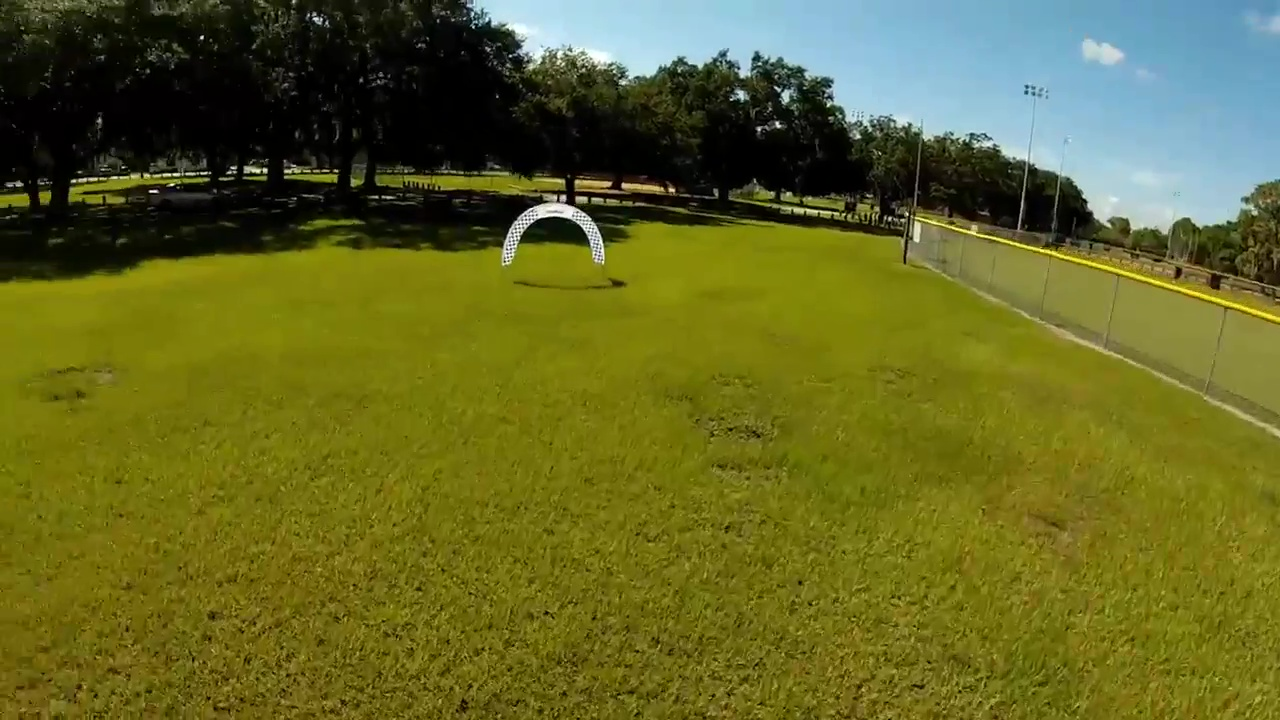gate: (499, 203, 605, 270)
